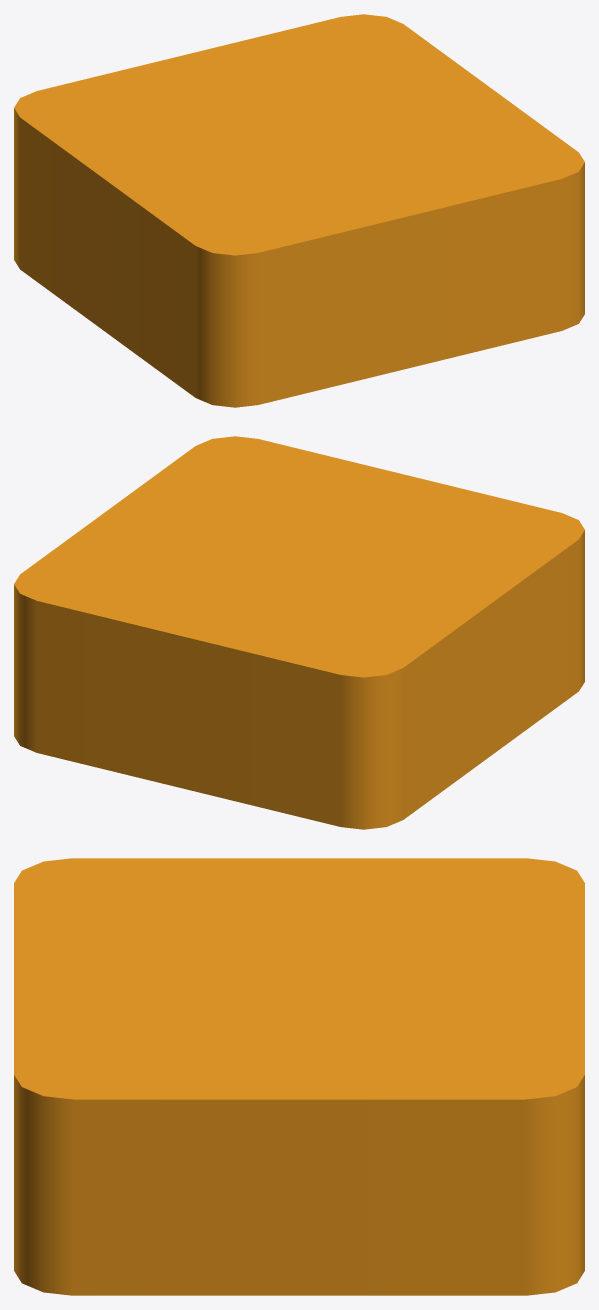
File: ControlBoard_AutoButton.obj
3 renders of one model, top to bottom at view 1: azimuth 30°, elevation 25°; view 2: azimuth 150°, elevation 25°; view 3: azimuth 270°, elevation 25°, orthographic. The views are drawn at different scales.
Parts seen in each view (by area): view 1: AutoButton; view 2: AutoButton; view 3: AutoButton.
Boxes of the visible parts, x1,y1,x2,y2 form: AutoButton: (14, 14, 584, 407); AutoButton: (14, 436, 584, 829); AutoButton: (14, 858, 584, 1295).
Size of the model in its own units: 0.029 by 0.011 by 0.029.
